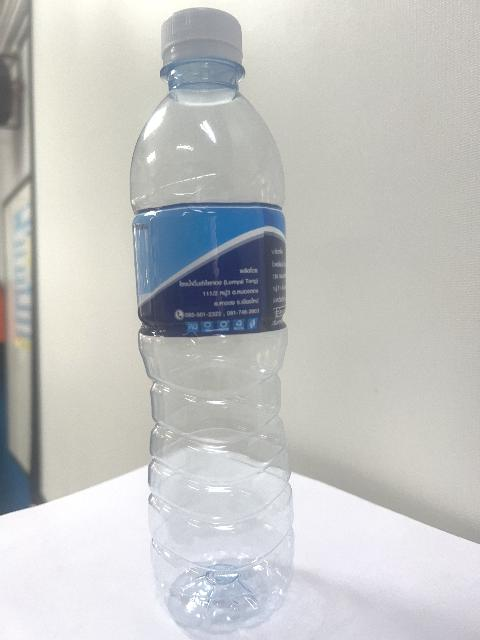bottle: (131, 9, 293, 633)
